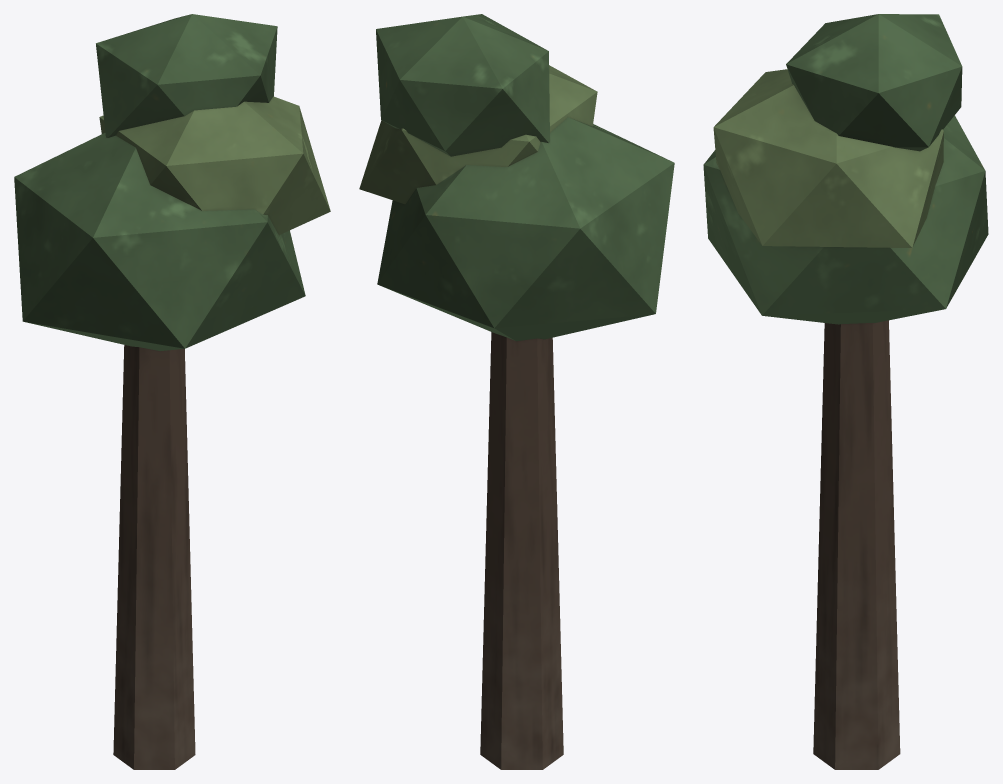
The model's file is arvore_campina_b.glb.
3 views of the same model, side by side, from view 1: azimuth 30°, elevation 25°; view 2: azimuth 150°, elevation 25°; view 3: azimuth 270°, elevation 25° (orthographic). The views are drawn at different scales.
Parts seen in each view (by area): view 1: arvore_campina_b; view 2: arvore_campina_b; view 3: arvore_campina_b.
Part boxes in pixels (box(x1,y1,x2,y2)): arvore_campina_b: box(14, 14, 330, 769); arvore_campina_b: box(359, 14, 674, 769); arvore_campina_b: box(703, 14, 988, 769).
Bounding box in the file's own units: 0.6763 × 1.75 × 0.5899.
1 material, 1 textured.
